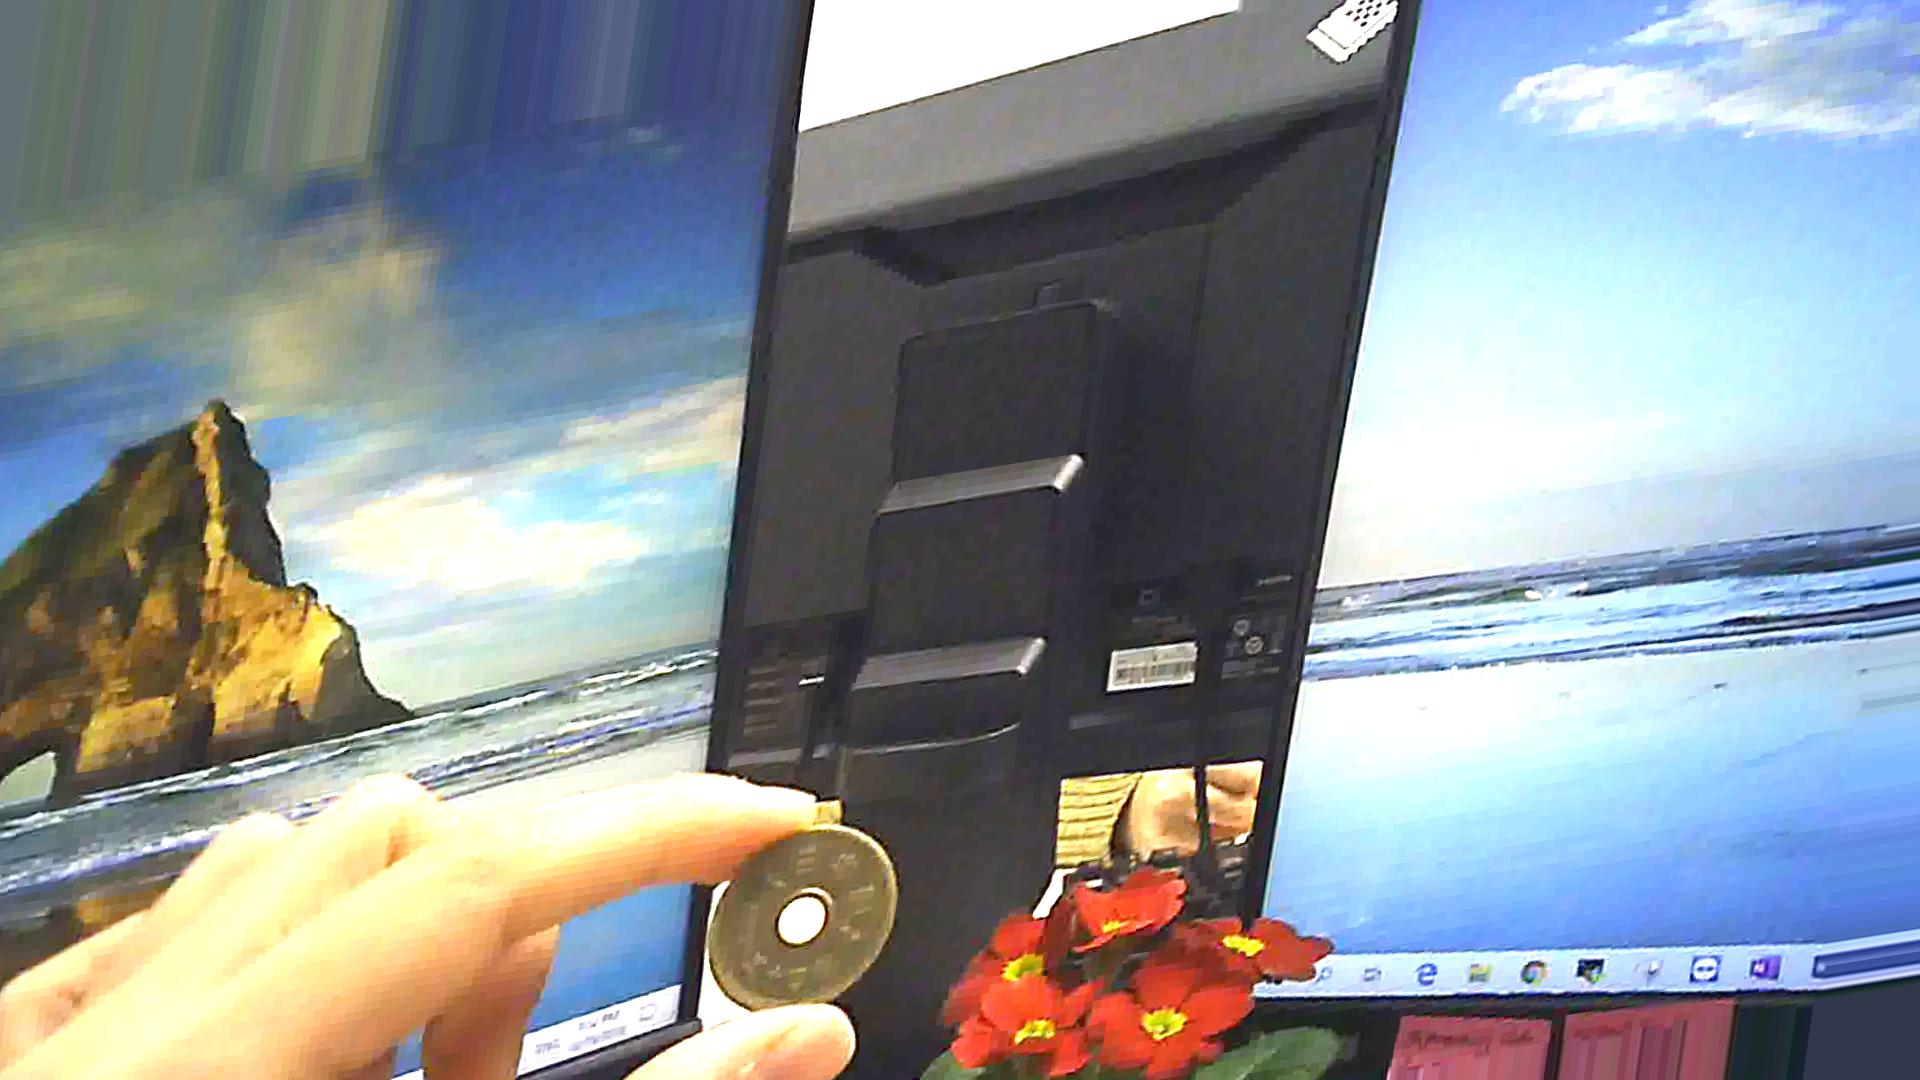5 Yen: (688, 824, 914, 1011)
